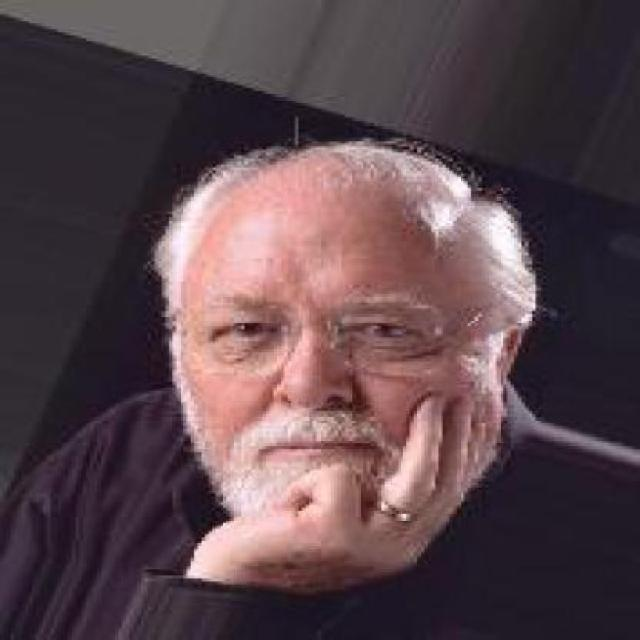closed-mouth: (264, 435, 368, 468)
